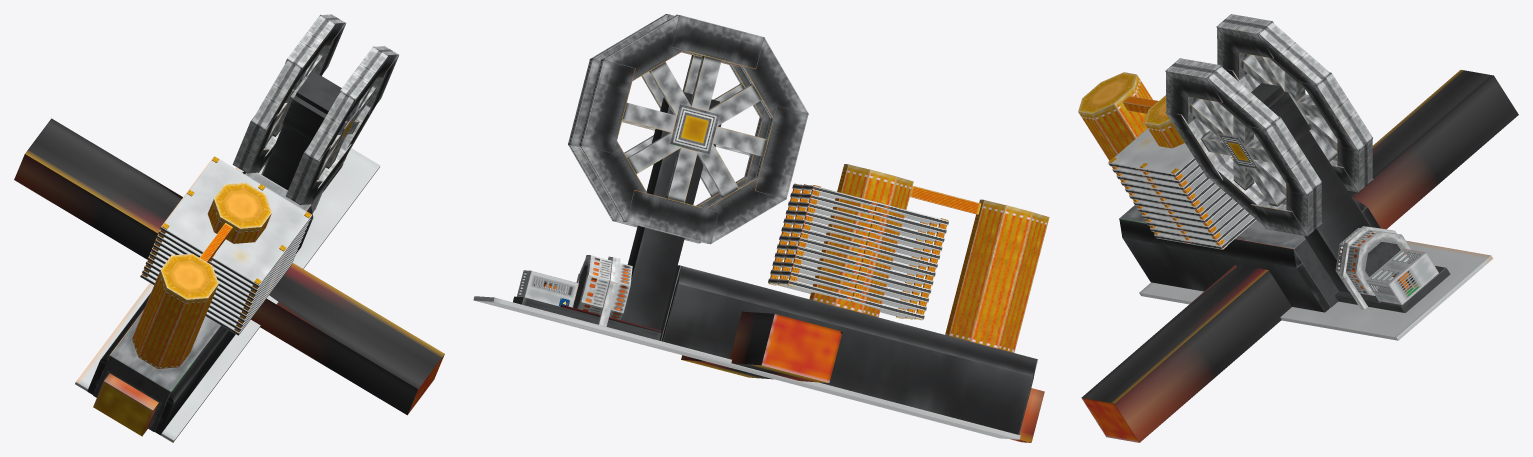
Rendered from inventory.obj.
3 renders of one model, left to right at view 1: azimuth 30°, elevation 25°; view 2: azimuth 150°, elevation 25°; view 3: azimuth 270°, elevation 25°, orthographic. The views are drawn at different scales.
Parts seen in each view (by area): view 1: output_cable1, output_cable2, fin11, ground_plate, main_housing, belt_housing0, thermal_input, piston_ring0_1, piston_ring7_1, flywheel_ring7_2, flywheel_ring7_1, flywheel_ring0_1 (+25 smaller); view 2: shroud_side_1, shroud_slant_1, output_cable2, belt_housing0, ground_plate, piston_ring2_1, piston_ring3_1, flywheel_ring2_2, flywheel_ring6_2, flywheel_ring4_2, flywheel_ring0_2, piston_ring1_1 (+40 smaller); view 3: output_cable1, output_cable2, ground_plate, shroud_side_2, belt_housing0, flywheel_ring2_1, flywheel_ring2_2, electronics_casing, main_housing, shroud_slant_2, fin11, flywheel_ring1_1 (+42 smaller).
Boxes of the visible parts, bbox=[...] form: output_cable1: bbox=[251, 263, 444, 415]; output_cable2: bbox=[14, 118, 182, 259]; fin11: bbox=[160, 156, 312, 287]; ground_plate: bbox=[75, 148, 380, 442]; main_housing: bbox=[93, 172, 310, 431]; belt_housing0: bbox=[262, 71, 340, 190]; thermal_input: bbox=[93, 373, 158, 436]; piston_ring0_1: bbox=[138, 283, 190, 368]; piston_ring7_1: bbox=[158, 291, 207, 368]; flywheel_ring7_2: bbox=[251, 60, 301, 129]; flywheel_ring7_1: bbox=[304, 91, 354, 161]; flywheel_ring0_1: bbox=[338, 46, 388, 115]; shroud_side_1: bbox=[663, 284, 1032, 434]; shroud_slant_1: bbox=[678, 266, 1036, 376]; output_cable2: bbox=[730, 311, 842, 382]; belt_housing0: bbox=[621, 92, 719, 330]; ground_plate: bbox=[473, 296, 1020, 439]; piston_ring2_1: bbox=[971, 205, 1032, 348]; piston_ring3_1: bbox=[949, 200, 1005, 341]; flywheel_ring2_2: bbox=[579, 59, 635, 153]; flywheel_ring6_2: bbox=[754, 105, 808, 199]; flywheel_ring4_2: bbox=[623, 190, 719, 244]; flywheel_ring0_2: bbox=[671, 15, 764, 69]; piston_ring1_1: bbox=[998, 212, 1049, 352]; output_cable1: bbox=[1081, 264, 1291, 442]; output_cable2: bbox=[1347, 70, 1518, 229]; ground_plate: bbox=[1139, 240, 1493, 340]; shroud_side_2: bbox=[1123, 237, 1323, 312]; belt_housing0: bbox=[1251, 83, 1370, 292]; flywheel_ring2_1: bbox=[1250, 116, 1321, 195]; flywheel_ring2_2: bbox=[1301, 72, 1372, 150]; electronics_casing: bbox=[1366, 248, 1438, 304]; main_housing: bbox=[1119, 198, 1371, 307]; shroud_slant_2: bbox=[1119, 219, 1295, 267]; fin11: bbox=[1108, 128, 1195, 177]; flywheel_ring1_1: bbox=[1207, 66, 1279, 133].
Size of the model in its own units: 0.9369 by 0.8404 by 0.8246.
